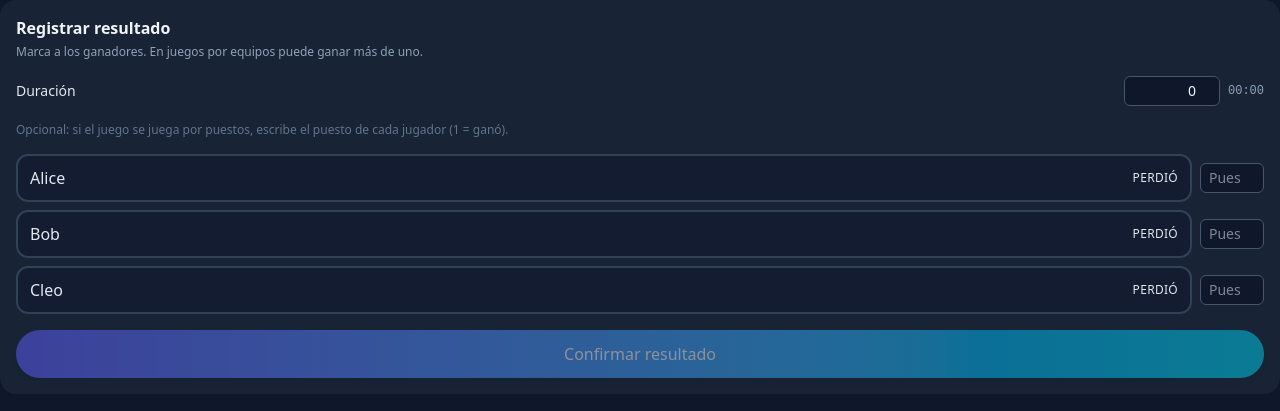
<MatchResultSheet /> › supports multiple winners (team games)
Click the checkbox with test id "winner-p1". click: (48, 178)
box: [16, 154, 1192, 202]
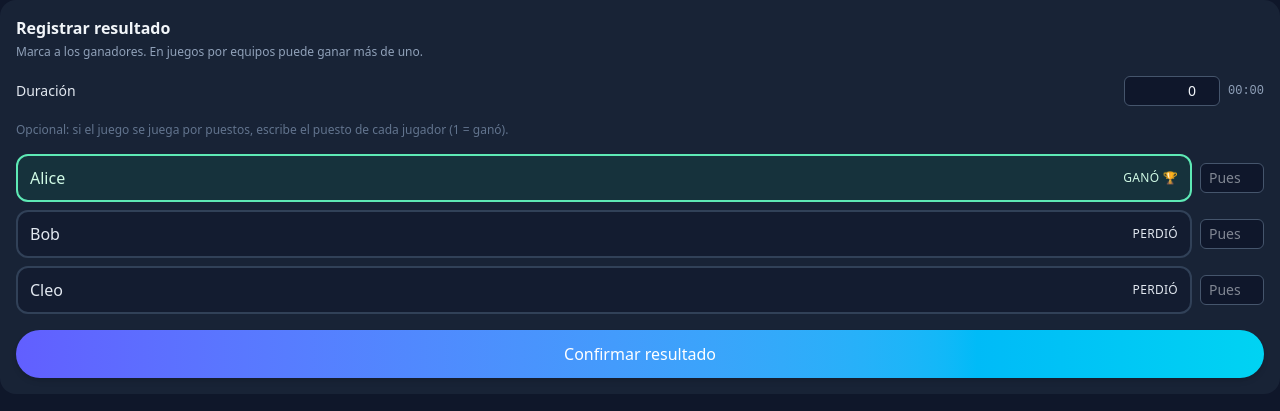
Click the checkbox with test id "winner-p2". click: (1155, 234)
box: [16, 210, 1192, 258]
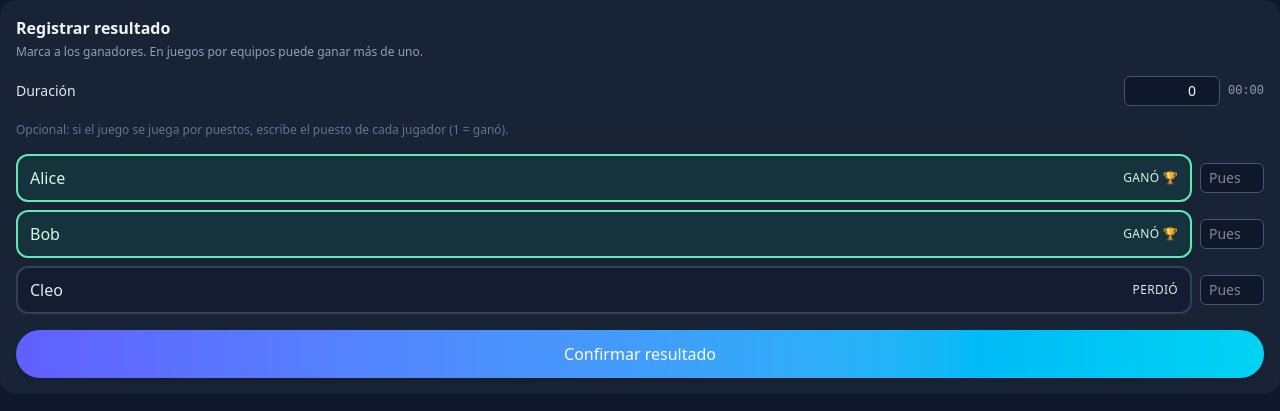
Expected: the text with test id "winner-status-p3" reads "perdió", [1133, 281, 1178, 298]
Expected: the text with test id "winner-status-p1" shows "ganó", [1123, 169, 1178, 186]
Expected: the text with test id "winner-status-p2" shows "ganó", [1123, 225, 1178, 242]
